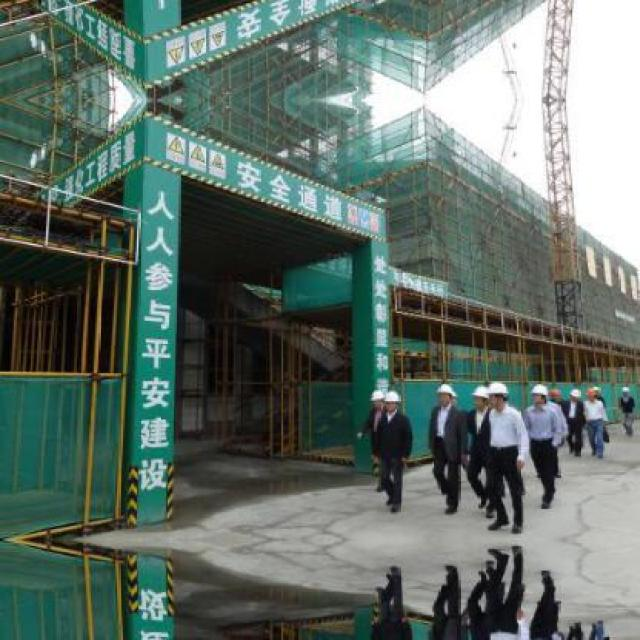helmet: (486, 378, 506, 395), (471, 384, 489, 401), (435, 382, 454, 398), (382, 390, 402, 401), (534, 384, 548, 398), (370, 388, 384, 399), (621, 385, 634, 395), (548, 386, 560, 396), (571, 388, 580, 399), (594, 384, 603, 392), (585, 388, 597, 394)
